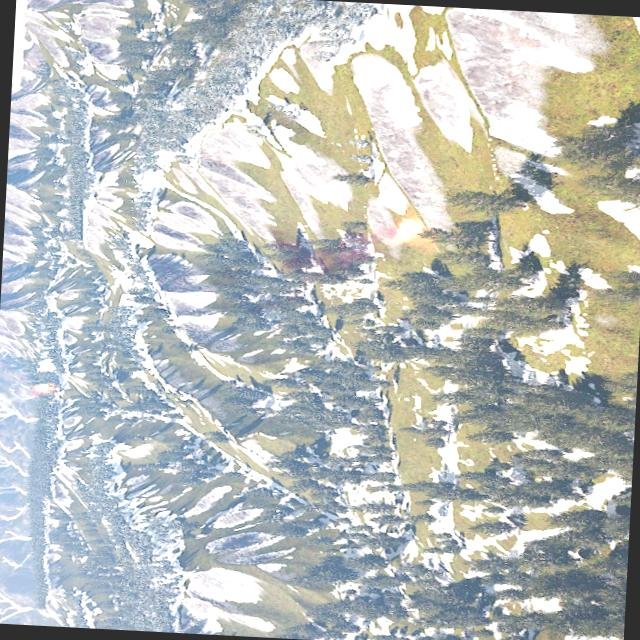fire: (393, 216, 426, 243), (34, 380, 52, 392)
smoke: (274, 221, 396, 279)
